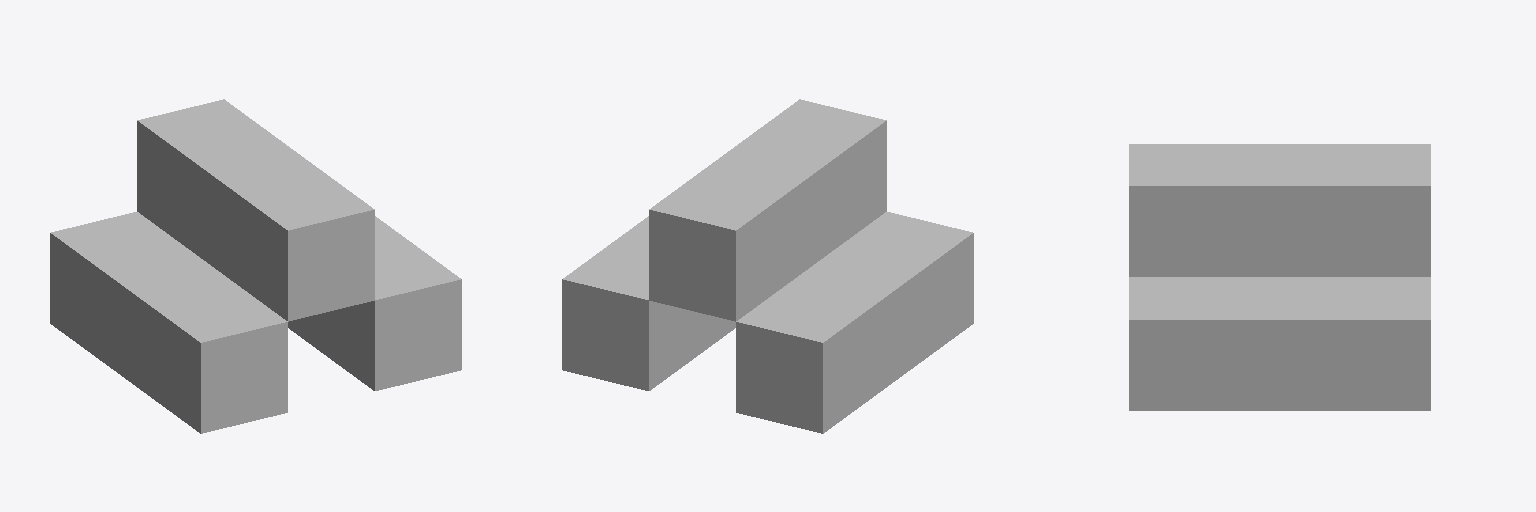
File: tent_blend_14.obj
3 renders of one model, left to right at view 1: azimuth 30°, elevation 25°; view 2: azimuth 150°, elevation 25°; view 3: azimuth 270°, elevation 25°, orthographic.
Visible parts, largest first — view 1: tent; view 2: tent; view 3: tent.
Boxes of the visible parts, box(x1,y1,x2,y2) form: tent: box(50, 99, 461, 433); tent: box(562, 99, 973, 433); tent: box(1129, 144, 1430, 410).
Bounding box in the file's own units: 1.5 × 1 × 1.5.